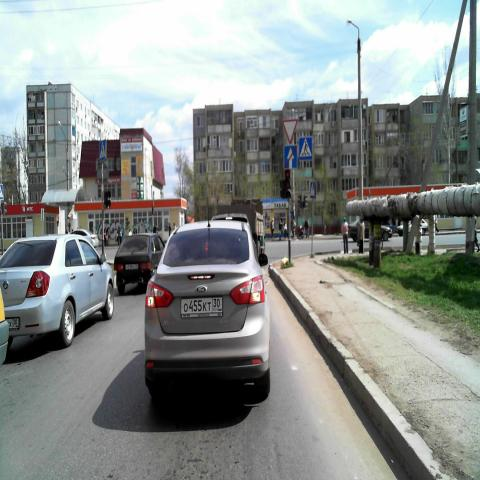2_4: (282, 119, 298, 142)
5_19_1: (299, 138, 313, 161), (98, 139, 107, 162), (310, 183, 316, 199)
5_6: (284, 146, 297, 169)
